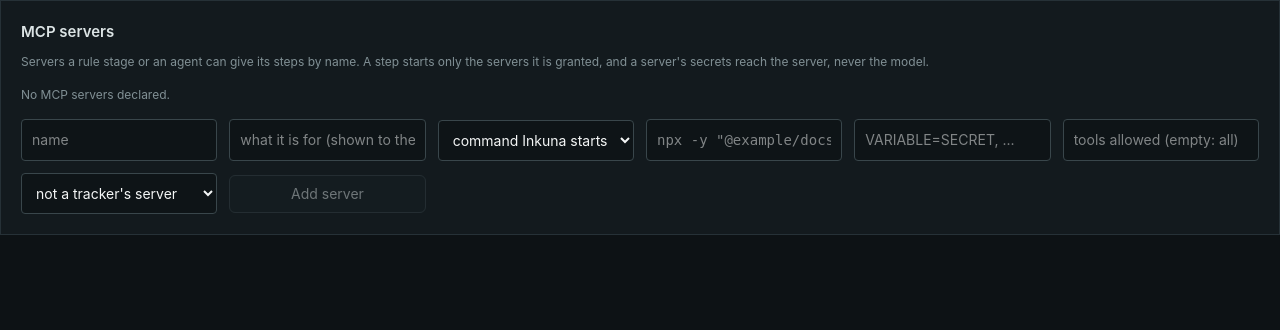
Scenario: MCPServersPanel › declares a command server with its argv and the secrets it is given
Expected: the text "No MCP servers declared." is shown, x1=21 y1=87 x2=170 y2=102
In the field named "MCP server name": (119, 140) x1=21 y1=119 x2=217 y2=161, type "docs-search"
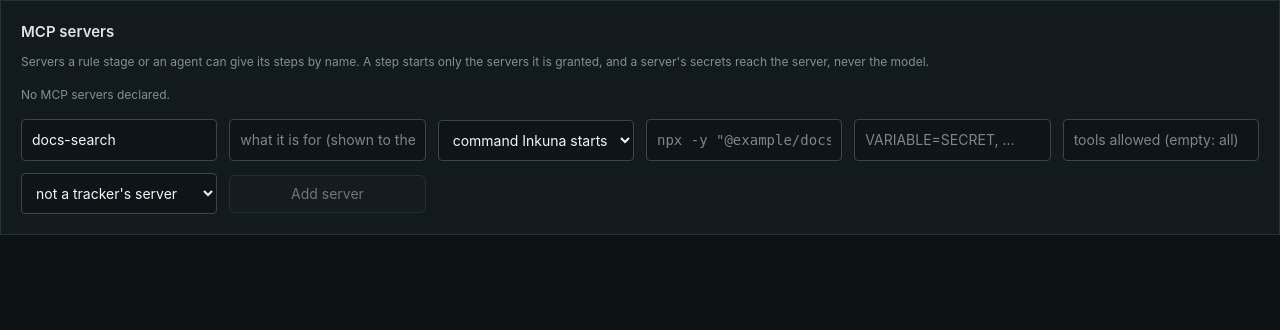
In the field named "MCP server description": (327, 140) x1=229 y1=119 x2=426 y2=161, type "Searches the design archive"
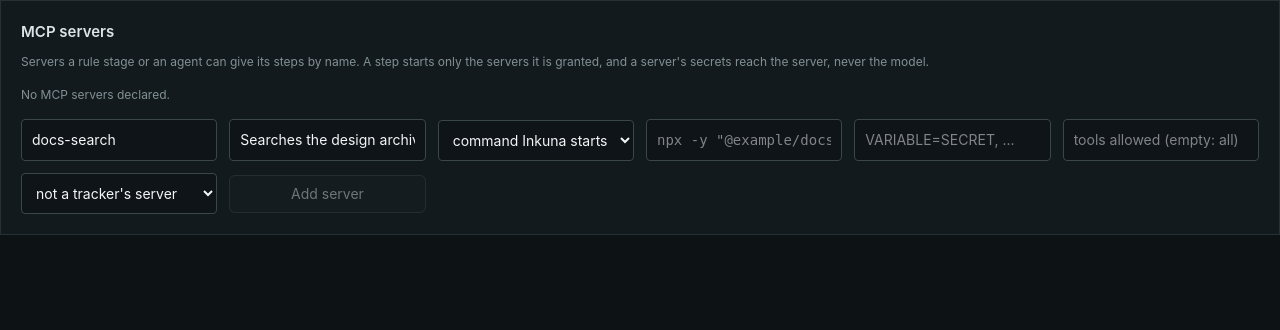
In the field named "MCP server command": (744, 140) x1=646 y1=119 x2=842 y2=161, type "npx -y \"@example/docs mcp@2.1.0\""
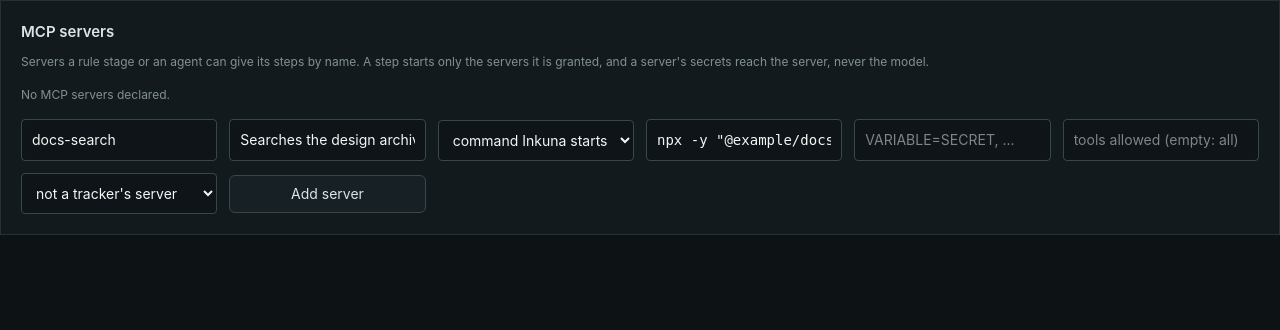
In the field named "MCP server environment": (952, 140) x1=854 y1=119 x2=1051 y2=161, type "DOCS_TOKEN=DOCS_TOKEN"
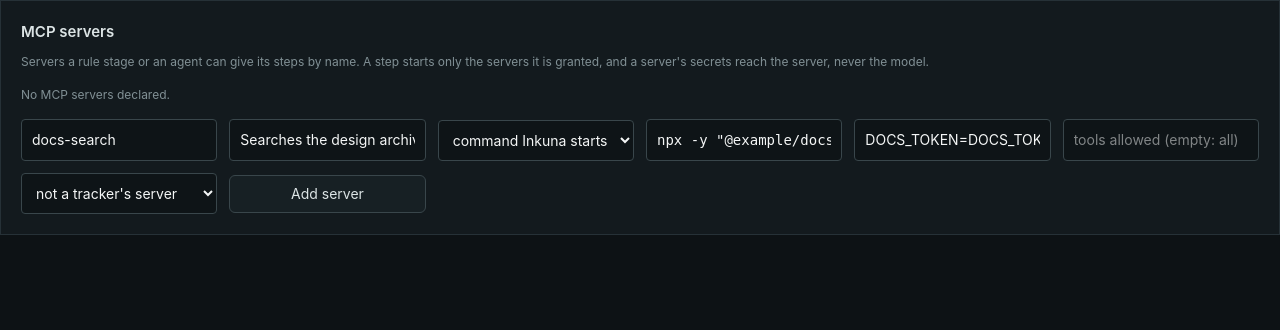
In the field named "MCP server tools": (1161, 140) x1=1063 y1=119 x2=1259 y2=161, type "search, read_page"
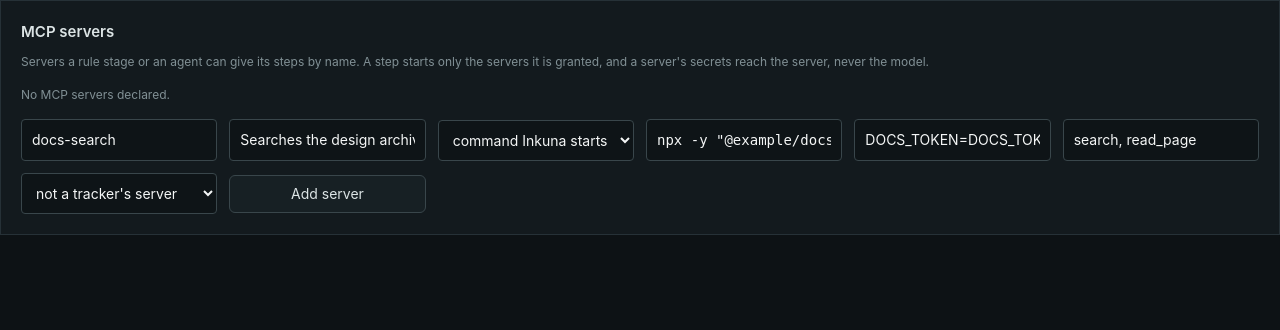
Click the button "Add server": (327, 194) x1=229 y1=174 x2=426 y2=212
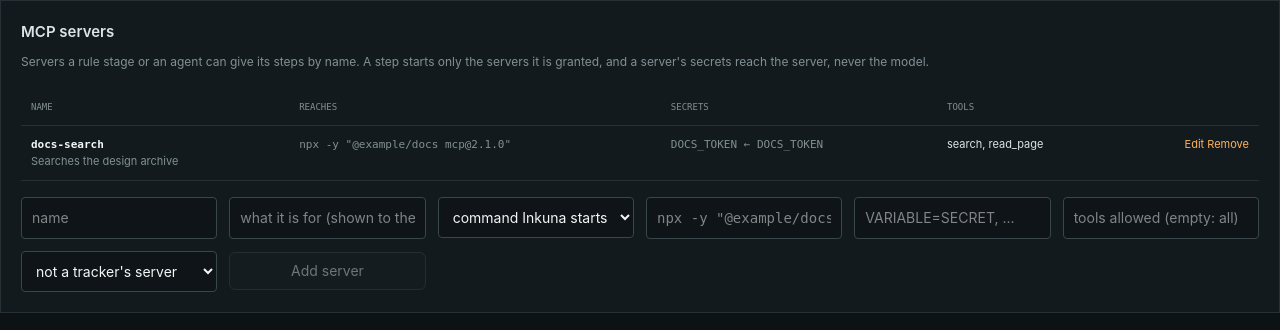
Now the row that starts with "docs-search" shows "DOCS_TOKEN ← DOCS_TOKEN", box x1=671 y1=138 x2=823 y2=150
Now the row that starts with "docs-search" shows "search, read_page", box x1=947 y1=136 x2=1044 y2=150
